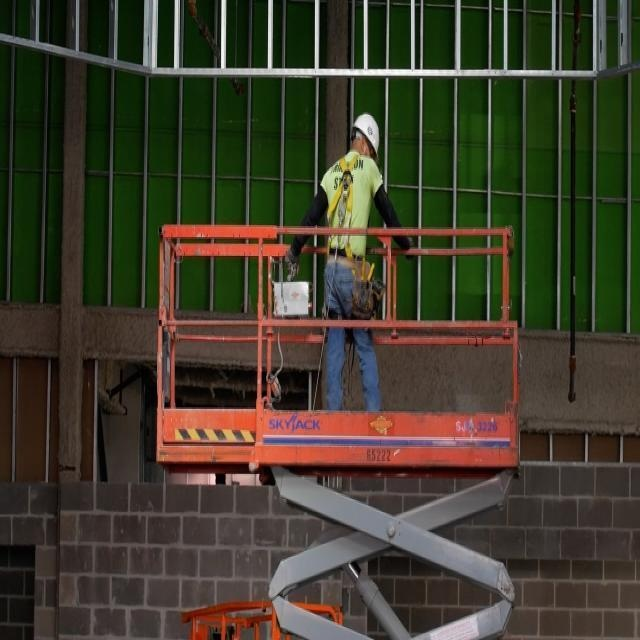Arnes_seguridad: (325, 156, 363, 262)
